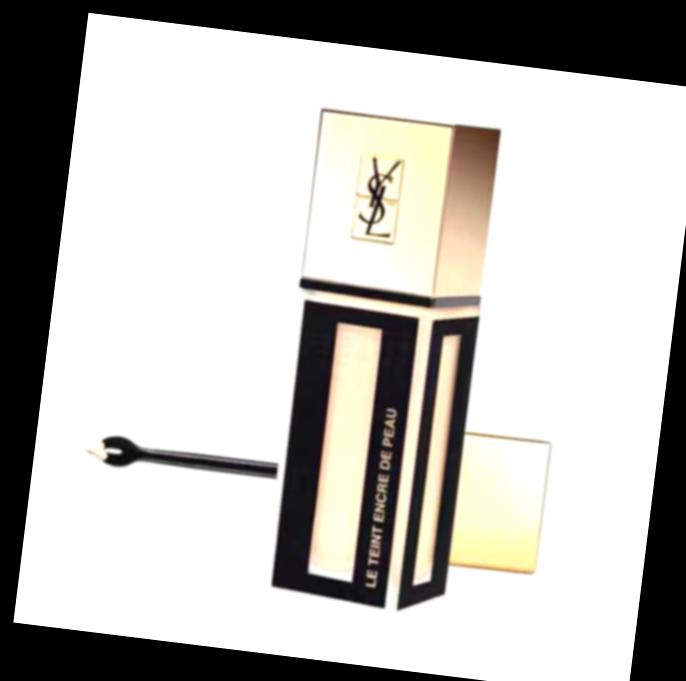cosmetic: (262, 108, 506, 620)
